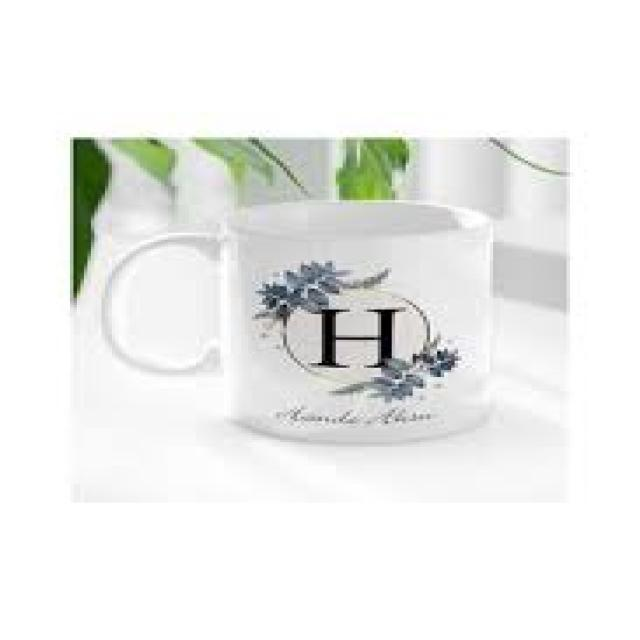taza: (102, 200, 496, 442)
